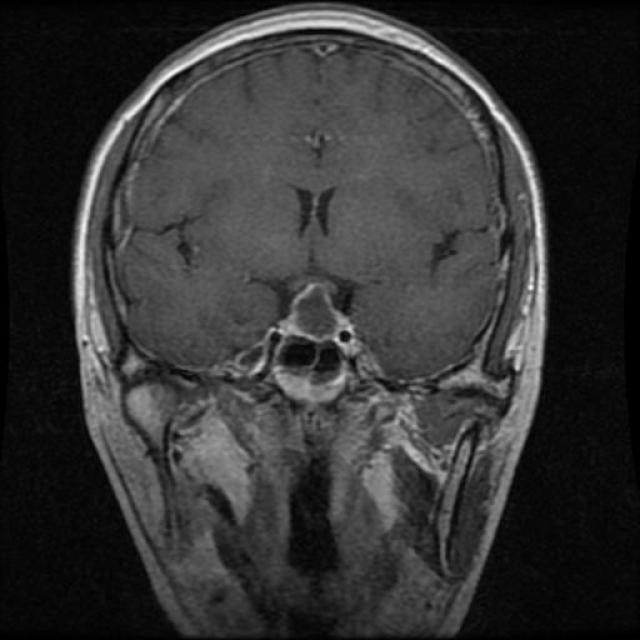pituitary: (278, 274, 374, 354)
